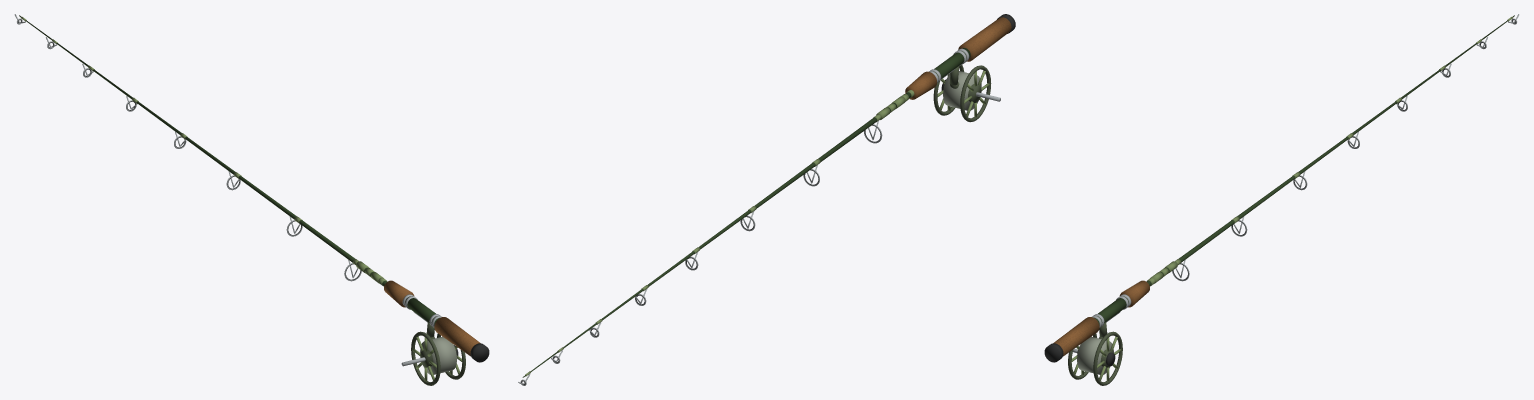
File: willow_fly.glb
3 views of the same model, side by side, from view 1: azimuth 30°, elevation 25°; view 2: azimuth 150°, elevation 25°; view 3: azimuth 330°, elevation 25° (orthographic). The views are drawn at different scales.
Parts seen in each view (by area): view 1: Tapered carbon blank.004; view 2: Tapered carbon blank.004; view 3: Tapered carbon blank.004.
Part boxes in pixels (box(x1,y1,x2,y2)): Tapered carbon blank.004: box(14, 14, 489, 385); Tapered carbon blank.004: box(518, 14, 1015, 385); Tapered carbon blank.004: box(1044, 14, 1519, 385).
Size of the model in its own units: 0.124 by 0.1505 by 1.91.
Materials: 8 (1 with a texture image).
